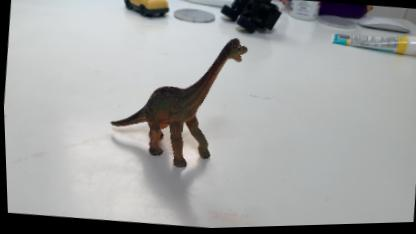brontosaurus: (99, 25, 251, 177)
